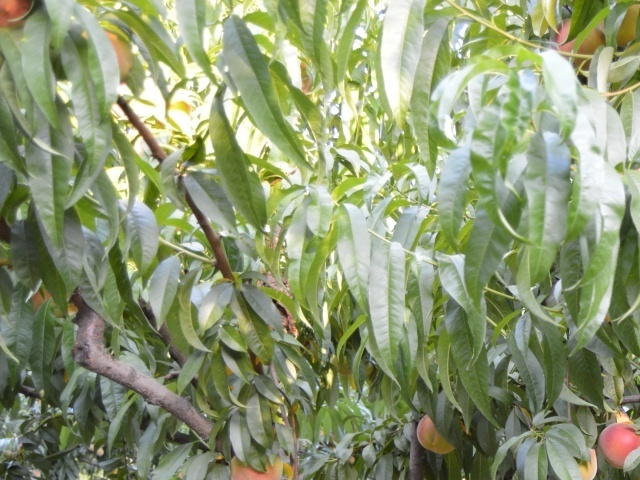peach: (547, 12, 613, 73), (413, 410, 465, 459), (595, 417, 640, 472), (224, 448, 287, 480), (1, 1, 36, 28)
